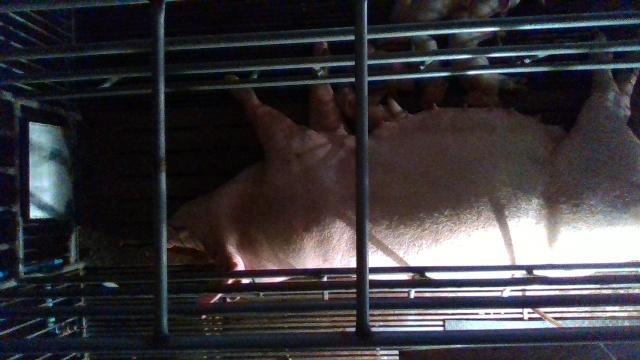piglet: (451, 29, 515, 108), (446, 0, 523, 52), (412, 30, 448, 112), (335, 83, 393, 128), (385, 0, 462, 22)
sow-sleep-lactate: (168, 43, 640, 304)
